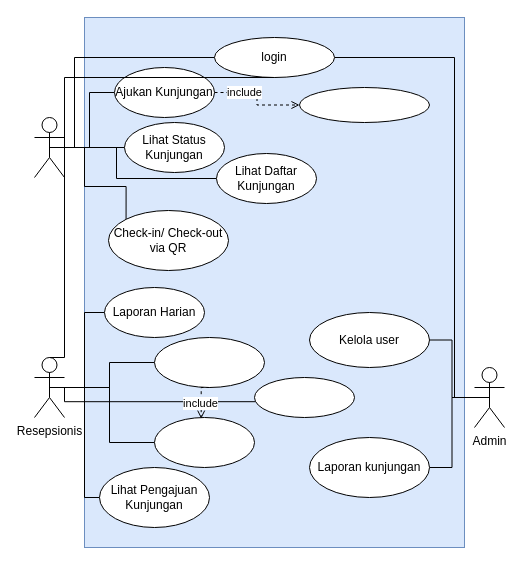
Image size: 524x565. Some labels were removed from this diagram. Each missing label, with the centre of its shape:
Isi Formulir Data Diri: the point at 364,104
Kelola Data Kunjungan: the point at 209,362
Kelola Profil: the point at 304,397
Setujui / Tolak Kunjungan: the point at 204,442
Tamu: the point at 49,147
